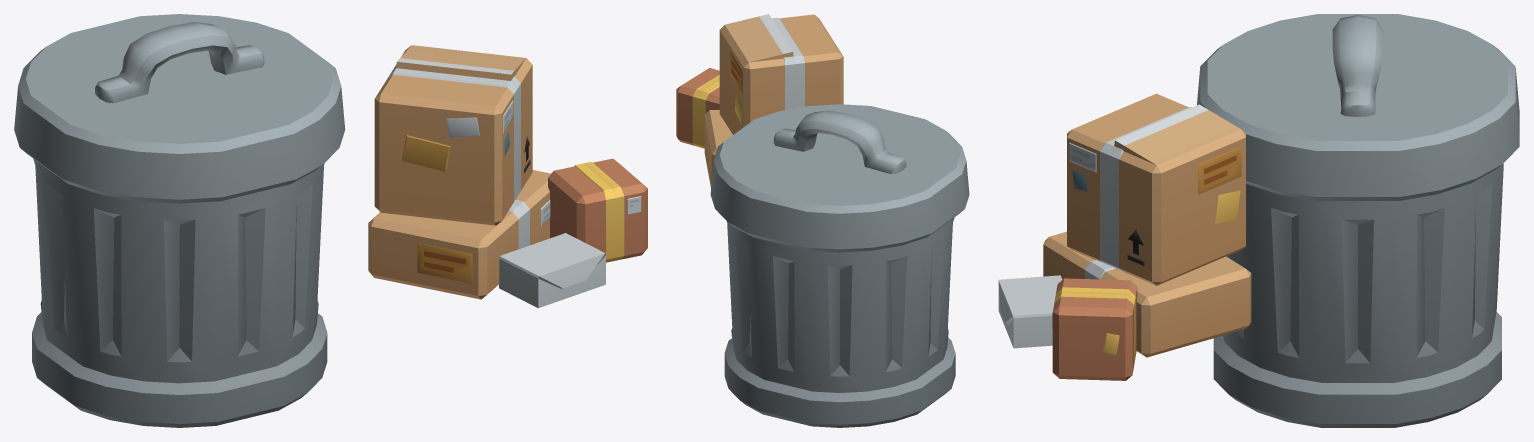
The model's file is bld_trash_bin_1x1.glb.
3 views of the same model, side by side, from view 1: azimuth 30°, elevation 25°; view 2: azimuth 150°, elevation 25°; view 3: azimuth 270°, elevation 25° (orthographic). The views are drawn at different scales.
Parts seen in each view (by area): view 1: trashcan, Containers_Pile_Small; view 2: trashcan, Containers_Pile_Small; view 3: trashcan, Containers_Pile_Small.
Boxes of the visible parts, <box> form: trashcan: <box>14,14,345,427</box>; Containers_Pile_Small: <box>368,45,647,308</box>; trashcan: <box>710,104,969,427</box>; Containers_Pile_Small: <box>676,14,843,187</box>; trashcan: <box>1196,14,1519,427</box>; Containers_Pile_Small: <box>998,93,1251,380</box>.
Size of the model in its own units: 0.6685 by 0.4677 by 0.645.
2 materials, 2 textured.
